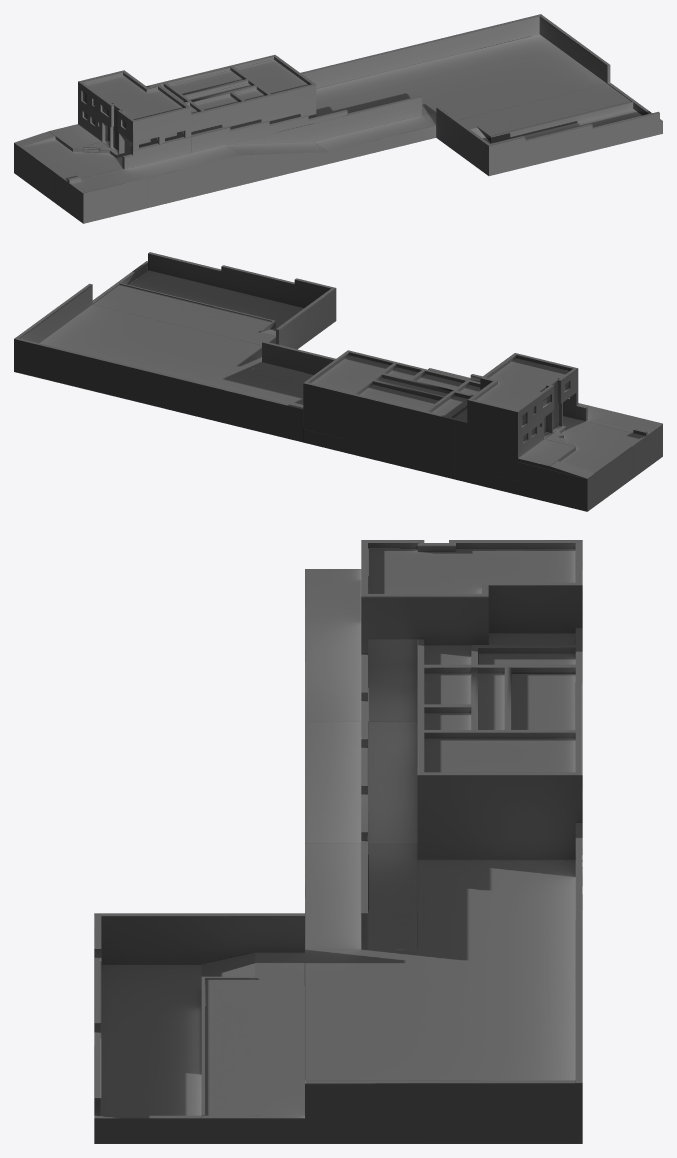
The model's file is RAHM_v9.glb.
3 renders of one model, top to bottom at view 1: azimuth 30°, elevation 25°; view 2: azimuth 150°, elevation 25°; view 3: azimuth 270°, elevation 25°, orthographic. The views are drawn at different scales.
Visible parts, largest first — view 1: node_00ac2abc_edf6_4ae6_b358_c706e6693491_mesh0; view 2: node_00ac2abc_edf6_4ae6_b358_c706e6693491_mesh0; view 3: node_00ac2abc_edf6_4ae6_b358_c706e6693491_mesh0.
Boxes of the visible parts, left/top/right/bottom form: node_00ac2abc_edf6_4ae6_b358_c706e6693491_mesh0: left=14, top=14, right=662, bottom=223; node_00ac2abc_edf6_4ae6_b358_c706e6693491_mesh0: left=14, top=252, right=662, bottom=511; node_00ac2abc_edf6_4ae6_b358_c706e6693491_mesh0: left=94, top=540, right=582, bottom=1143.
Size of the model in its own units: 3574 by 492 by 1433.
2 materials, 2 textured.
